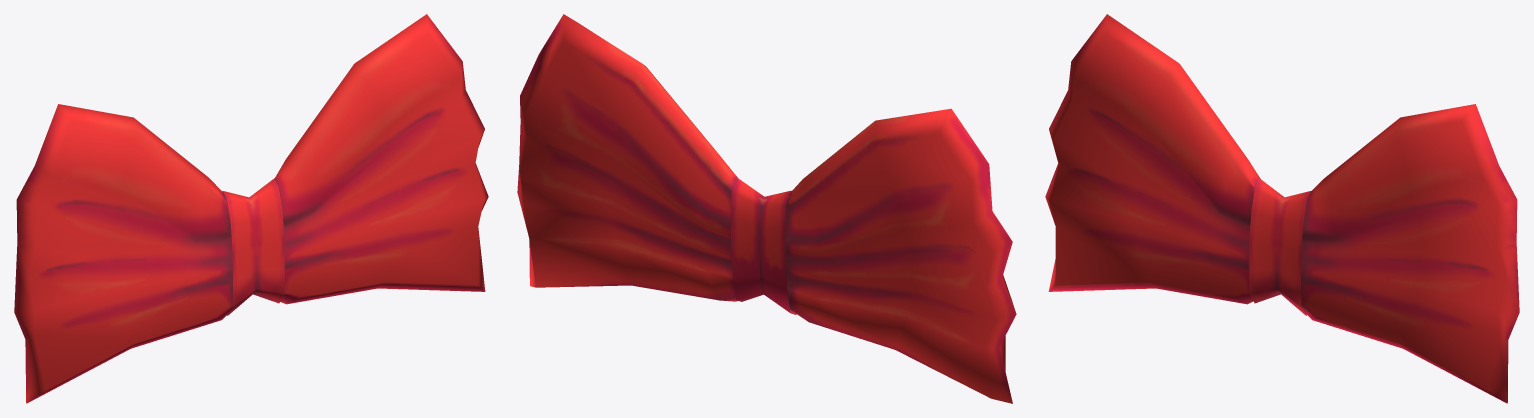
File: Ribbon2.fbx
3 renders of one model, left to right at view 1: azimuth 30°, elevation 25°; view 2: azimuth 150°, elevation 25°; view 3: azimuth 330°, elevation 25°, orthographic. The views are drawn at different scales.
Parts seen in each view (by area): view 1: Cube; view 2: Cube; view 3: Cube.
Boxes of the visible parts, x1,y1,x2,y2 form: Cube: (14,14,488,403); Cube: (517,14,1016,403); Cube: (1045,14,1519,403).
Bounding box in the file's own units: 23.44 × 13.19 × 2.34.
Materials: 1 (1 with a texture image).
